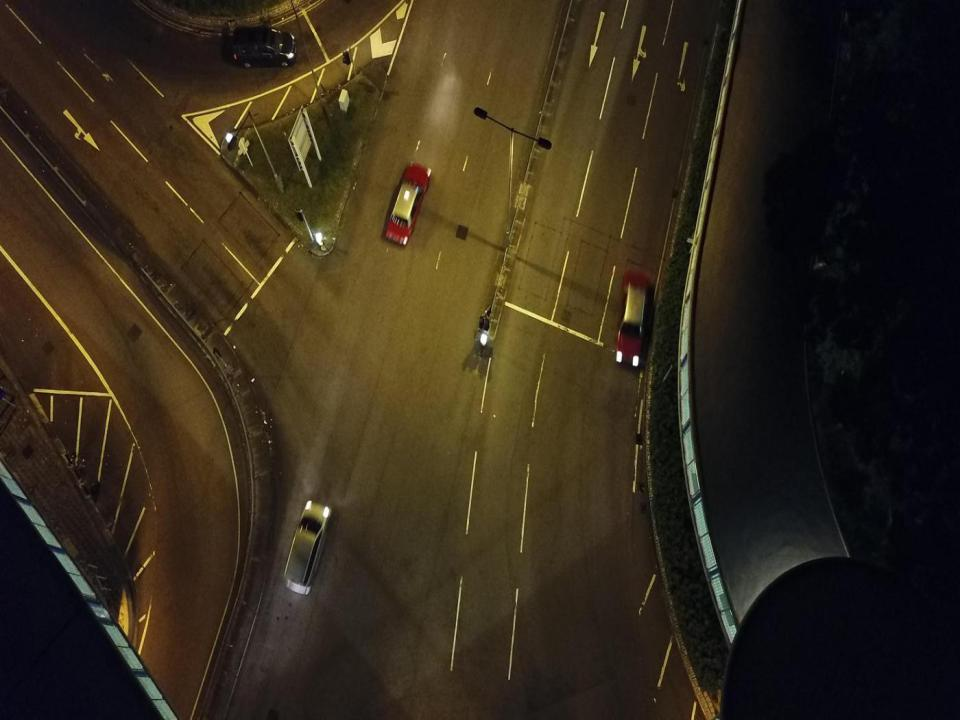car: (283, 500, 331, 596), (384, 161, 432, 247), (615, 269, 651, 369), (230, 26, 298, 68)
